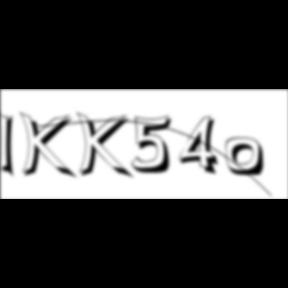4: (178, 115, 225, 179)
5: (132, 114, 178, 176)
K: (76, 110, 136, 182), (20, 110, 78, 182)
l: (1, 108, 22, 182)
o: (225, 137, 267, 179)
